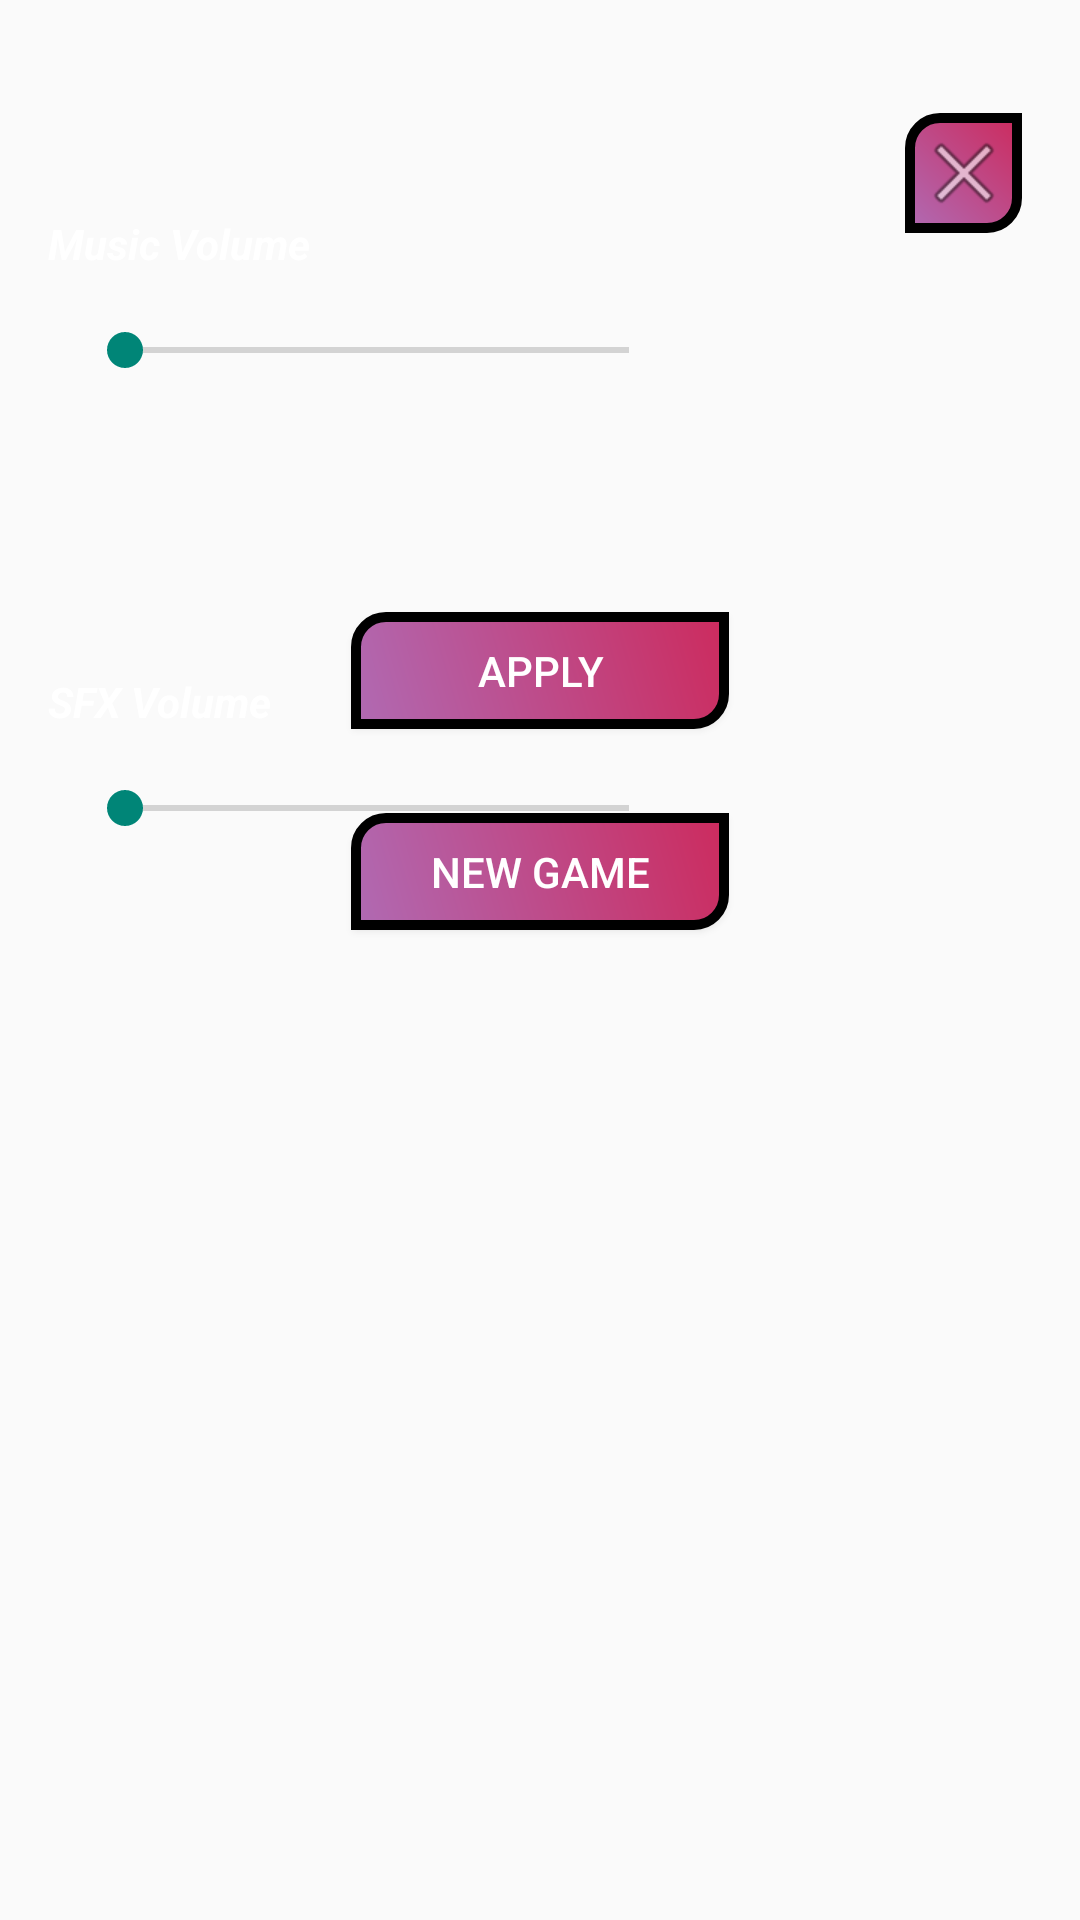

Screen size 1080×1920. Icon name, then its center in pixels as (x=x, y=y):
close clear cancel: (x=963, y=173)
